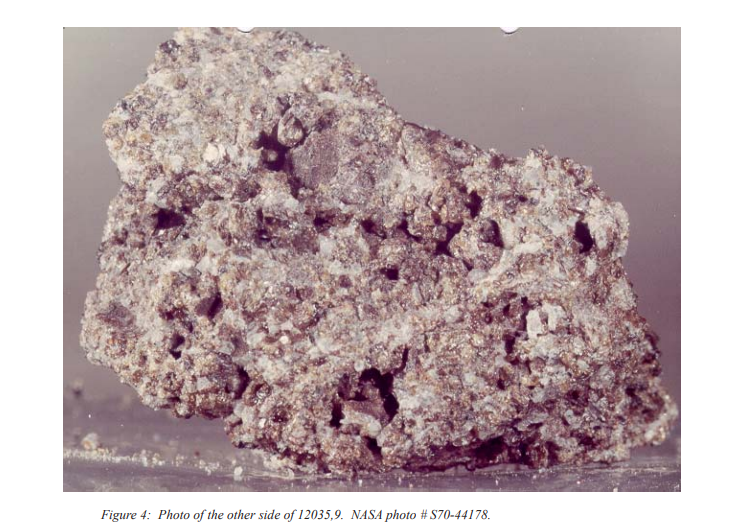Basalt: (62, 27, 678, 482)
